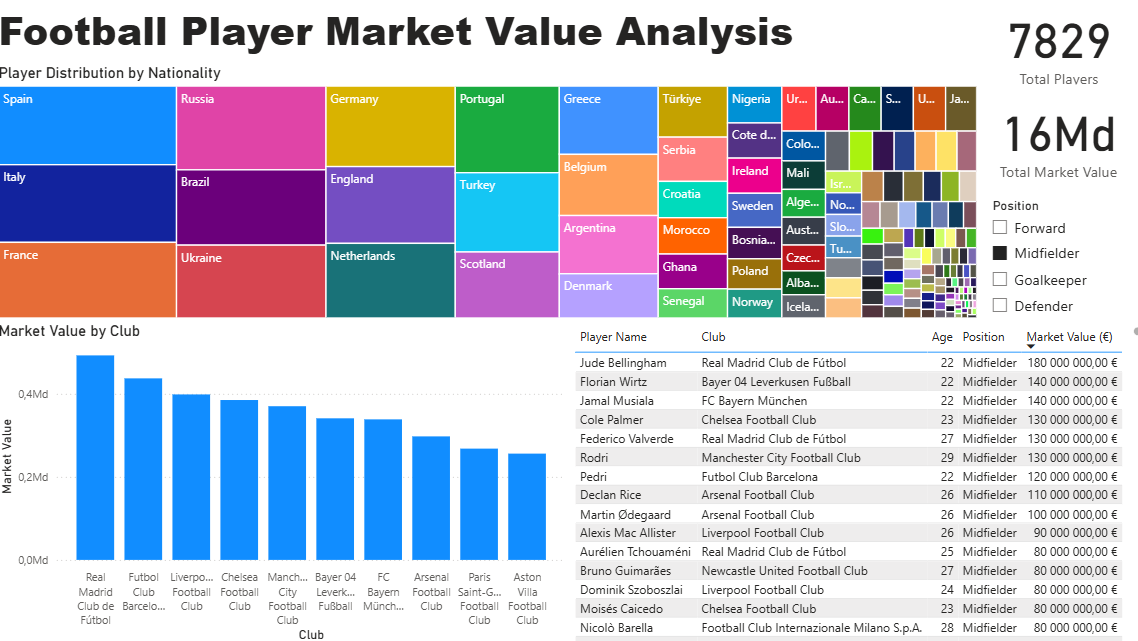

What the dashboard file says about the page in this screenshot:
{"tool":"powerbi","page":{"name":"Page 1","canvas":[1280,720],"ordinal":0},"visuals":[{"type":"textbox","box":[0,0,917.5,72.5],"z":0},{"type":"card","fields":{"Values":["players.Valeur Marchande Totale"]},"box":[1085,101.2,195,105],"z":1000},{"type":"card","title":"Total Players","fields":{"Values":["players.Nombre de Joueurs"]},"box":[1091.2,0,182.5,101.2],"z":2000},{"type":"columnChart","title":"Market Value by Club","fields":{"Y":["players.Valeur Marchande Totale"],"Category":["players.current_club_name"]},"box":[0,360,640,360],"z":3000},{"type":"treemap","title":"Player Distribution by Nationality","fields":{"Group":["players.country_of_citizenship"],"Values":["players.Nombre de Joueurs"]},"box":[0,72.7,1096.4,286.8],"z":4000},{"type":"tableEx","fields":{"Values":["players.name","players.current_club_name","Sum(players.Âge)","players.Position_English","Sum(players.market_value_in_eur)"]},"box":[640,360,640,360],"z":5000},{"type":"slicer","fields":{"Values":["players.Position_English"]},"box":[1096.2,216.2,183.8,143.8],"z":6000}]}

Visuals, with their boxes in screenshot pixels (x1, y1, x2, y2), scaled from the page's 1280x720 canvas onto the 1138x641 screenshot:
textbox: rect(0, 0, 816, 65)
card - players.Valeur Marchande Totale: rect(965, 90, 1137, 184)
"Total Players" card: rect(970, 0, 1132, 90)
"Market Value by Club" columnChart: rect(0, 320, 569, 640)
"Player Distribution by Nationality" treemap: rect(0, 65, 975, 320)
tableEx - players.name x players.current_club_name: rect(569, 320, 1137, 640)
slicer - players.Position_English: rect(975, 192, 1137, 320)
